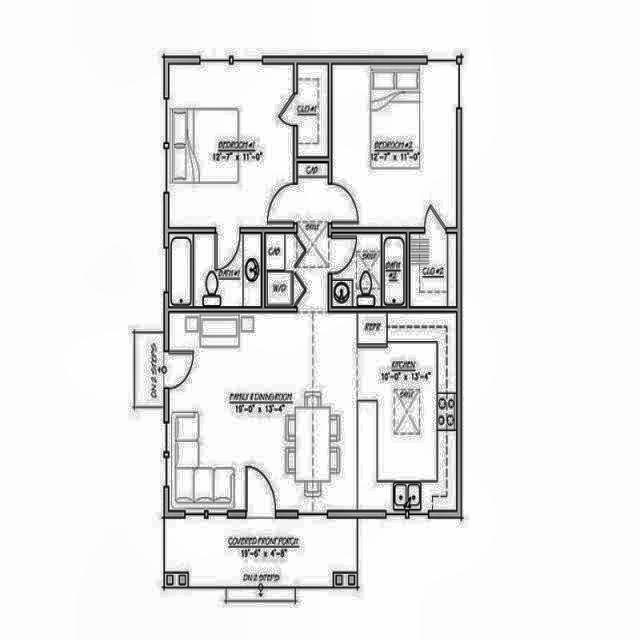room: (169, 162, 457, 510), (333, 64, 456, 306), (169, 64, 328, 227), (169, 234, 292, 306), (332, 234, 405, 307)
